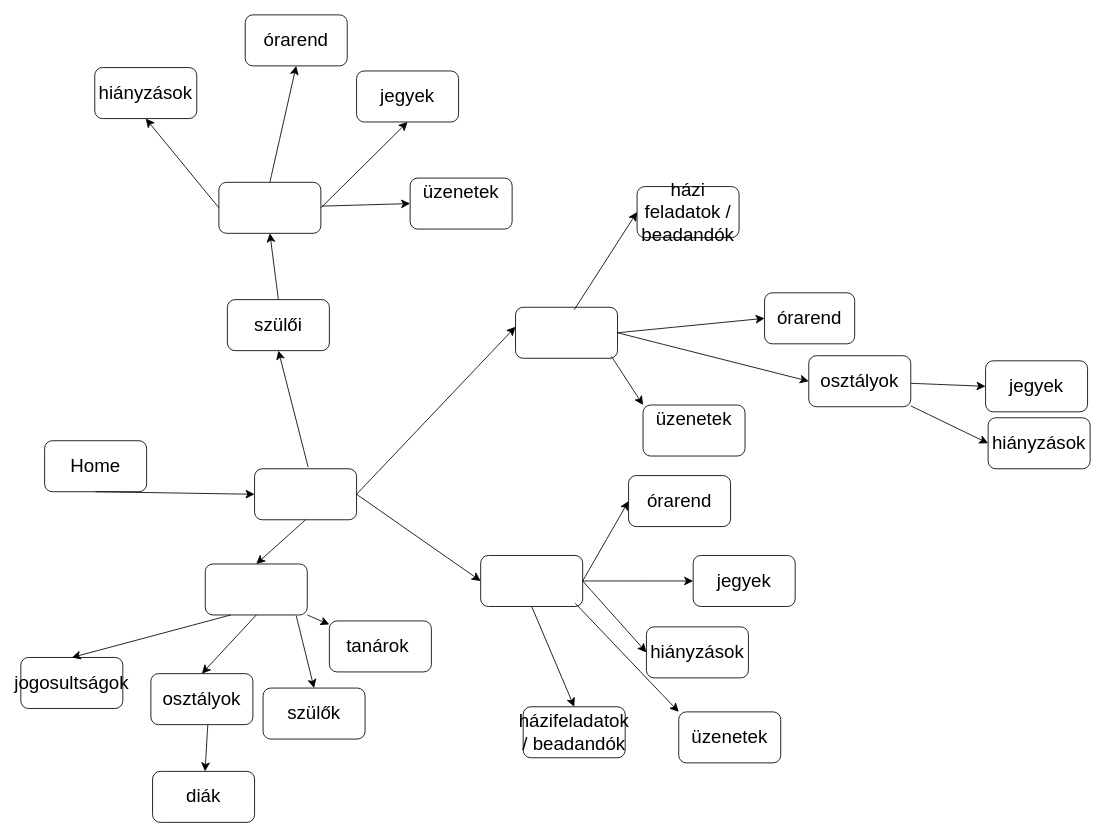
This 1105x837 diagram has some shape labels left out. The shapes that lost their labels are listed below. From the top down, each one's box as (x1, y1, x2, y2) in pixels, then its label:
(218, 181, 321, 233): gyerekek
(515, 306, 618, 358): tanári
(254, 468, 357, 520): belépés
(204, 563, 307, 615): admin
(480, 555, 583, 606): tanulói
